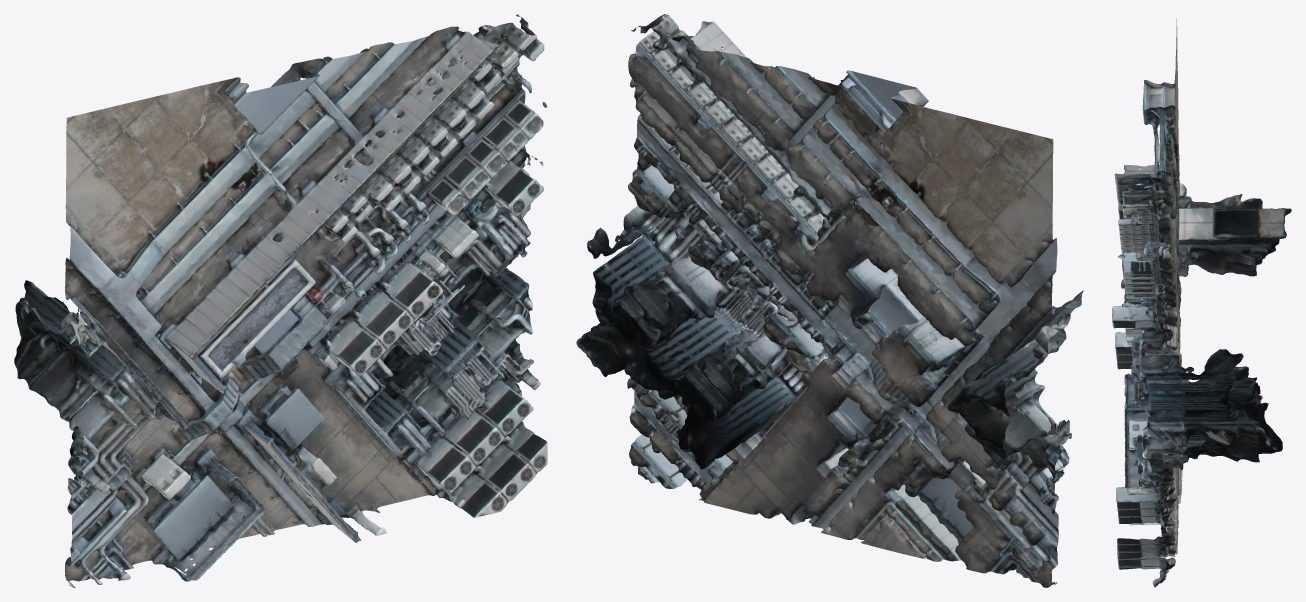
File: Tile_+009_+008.fbx
3 views of the same model, side by side, from view 1: azimuth 30°, elevation 25°; view 2: azimuth 150°, elevation 25°; view 3: azimuth 270°, elevation 25° (orthographic). The views are drawn at different scales.
Parts seen in each view (by area): view 1: DefaultName; view 2: DefaultName; view 3: DefaultName.
Boxes of the visible parts, x1,y1,x2,y2 form: DefaultName: (14,14,547,587); DefaultName: (576,14,1083,587); DefaultName: (1112,18,1291,587).
Size of the model in its own units: 22.54 by 22.54 by 9.37.
